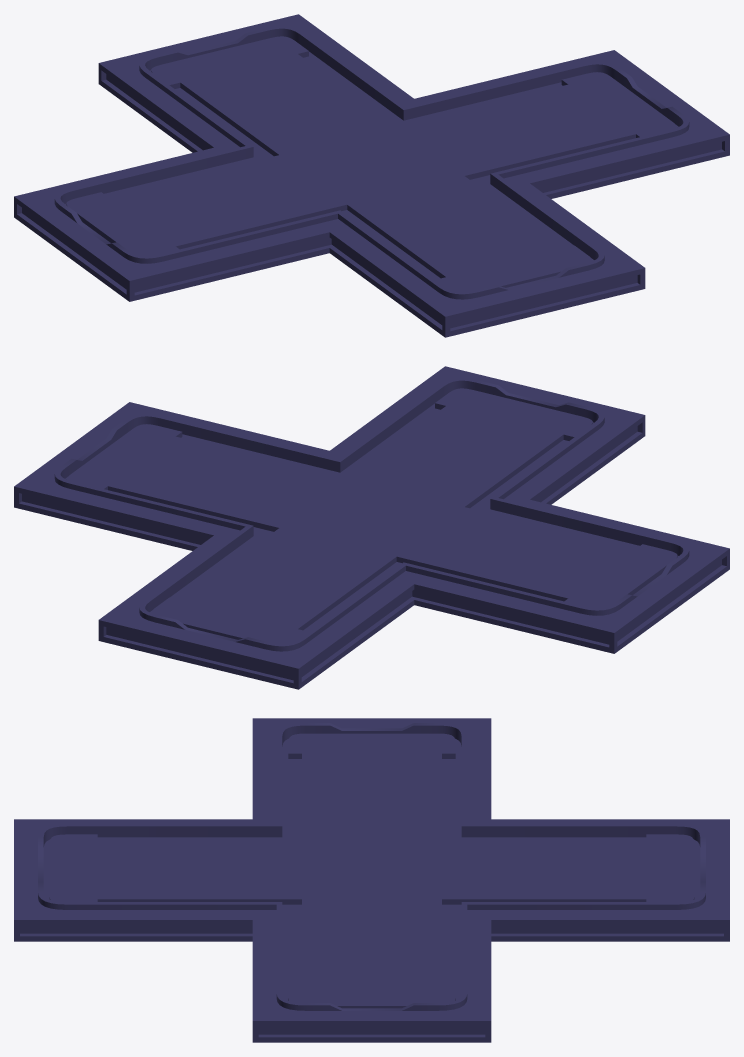
The model's file is Bridge_A_2x2m_TurnX.FBX.
3 renders of one model, top to bottom at view 1: azimuth 30°, elevation 25°; view 2: azimuth 150°, elevation 25°; view 3: azimuth 270°, elevation 25°, orthographic. The views are drawn at different scales.
Visible parts, largest first — view 1: Bridge_A_2x2m_TurnX; view 2: Bridge_A_2x2m_TurnX; view 3: Bridge_A_2x2m_TurnX.
Boxes of the visible parts, x1,y1,x2,y2 form: Bridge_A_2x2m_TurnX: (14, 14, 729, 337); Bridge_A_2x2m_TurnX: (14, 366, 729, 689); Bridge_A_2x2m_TurnX: (14, 718, 729, 1042).
Bounding box in the file's own units: 600 × 33.37 × 600.
